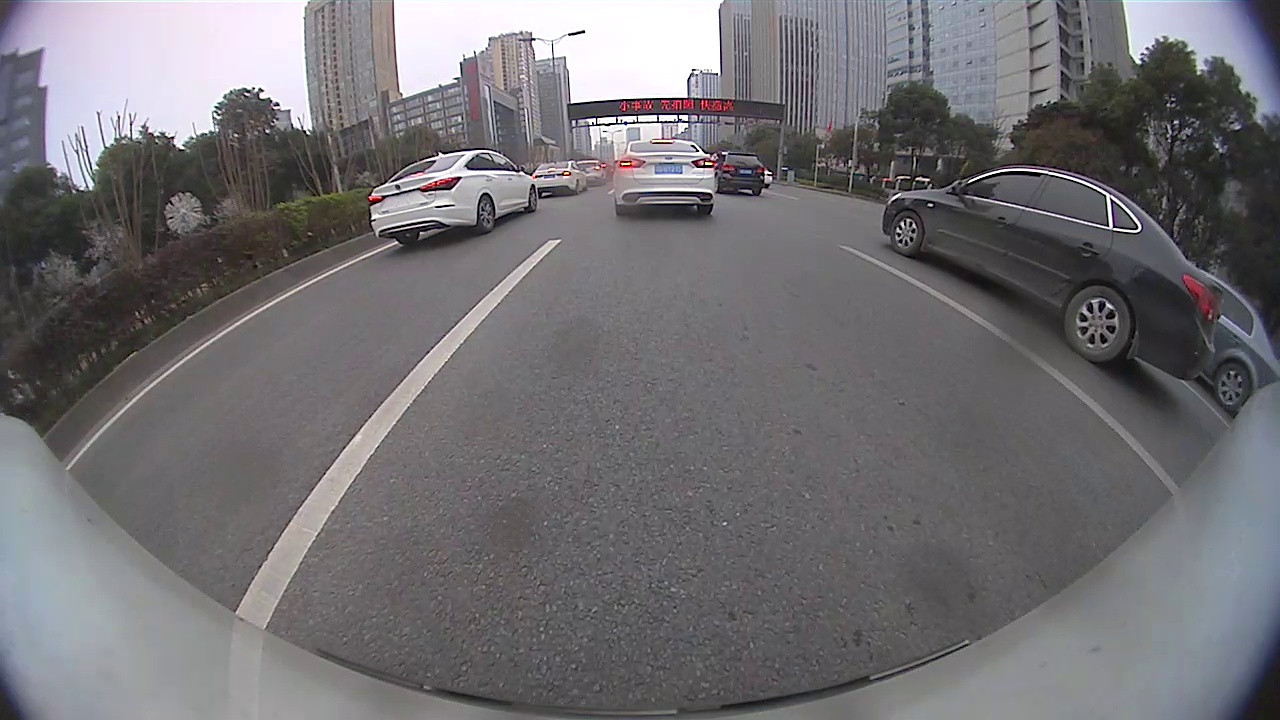car: (880, 164, 1223, 380), (367, 150, 539, 246), (1187, 265, 1279, 418), (614, 139, 716, 216), (711, 150, 764, 197), (530, 159, 587, 196)
front: (890, 213, 924, 256), (527, 183, 539, 215)
rear: (1066, 283, 1134, 365), (1214, 360, 1256, 414), (475, 193, 498, 235)
